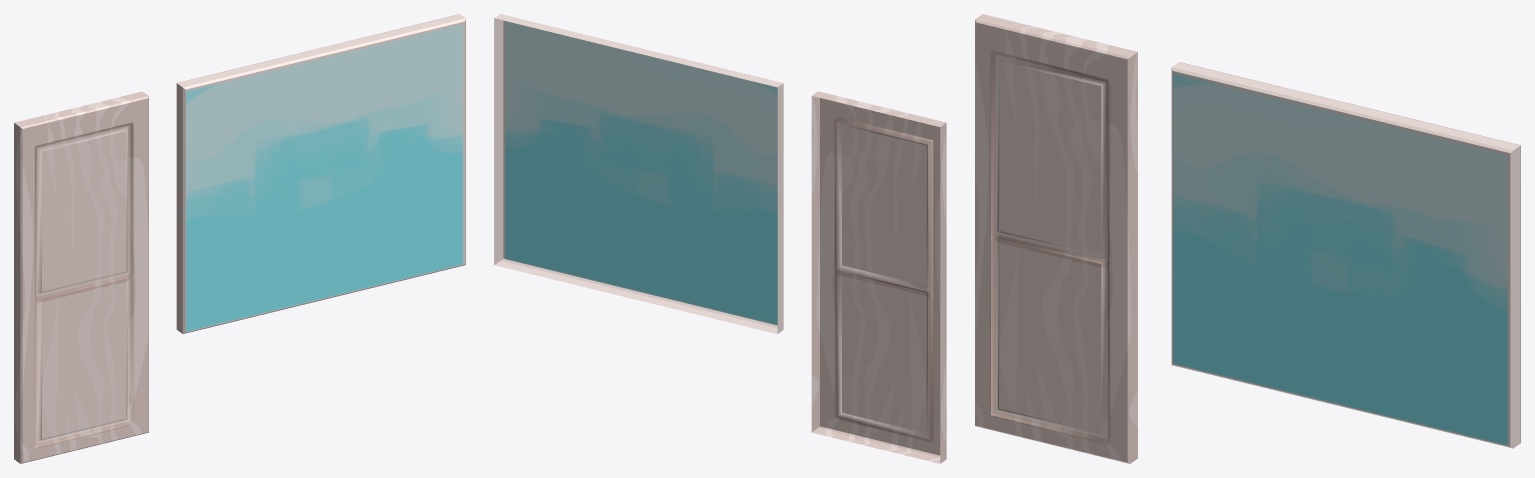
The model's file is window (1).FBX.
3 renders of one model, left to right at view 1: azimuth 30°, elevation 25°; view 2: azimuth 150°, elevation 25°; view 3: azimuth 330°, elevation 25°, orthographic. The views are drawn at different scales.
Parts seen in each view (by area): view 1: door_window; view 2: door_window; view 3: door_window.
Part boxes in pixels (x1,y1,x2,y2): door_window: [14, 14, 465, 463]; door_window: [494, 14, 946, 463]; door_window: [975, 14, 1520, 463].
Bounding box in the file's own units: 30.51 × 22.02 × 0.84.
1 material, 1 textured.
